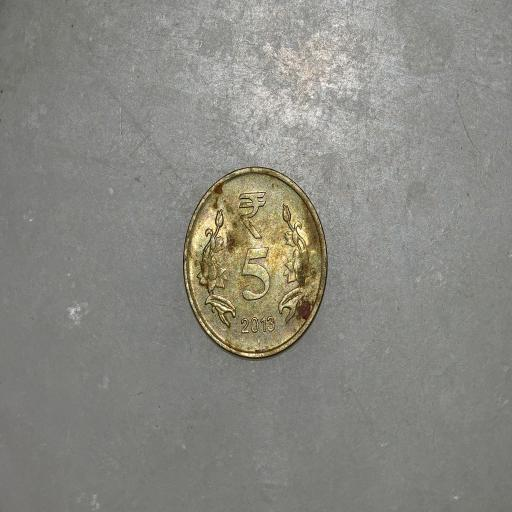rupee5: (179, 165, 331, 361)
